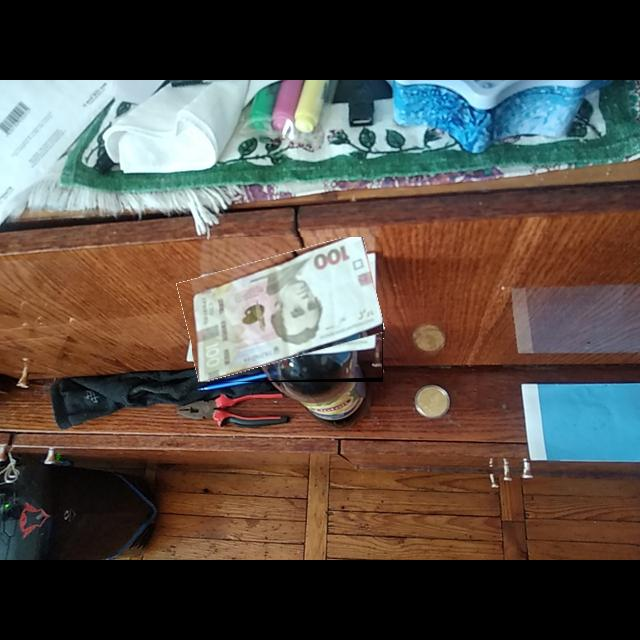100uah: (192, 237, 384, 383)
